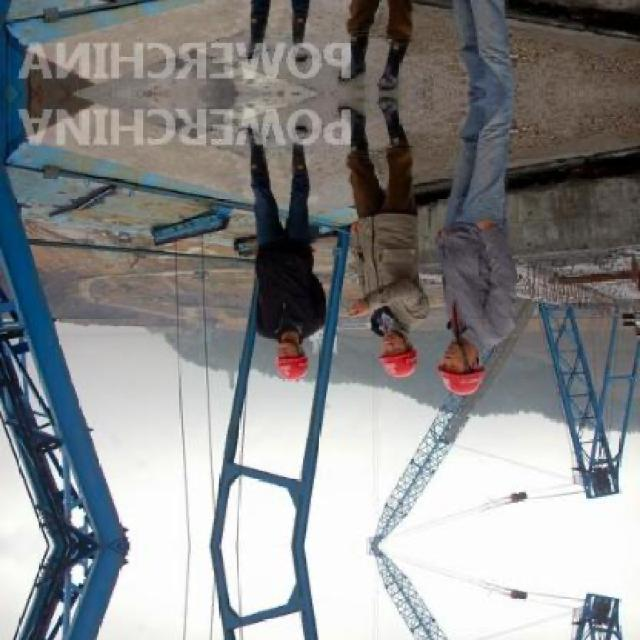con casco: (326, 312, 455, 407), (446, 292, 528, 416), (247, 310, 331, 392)
